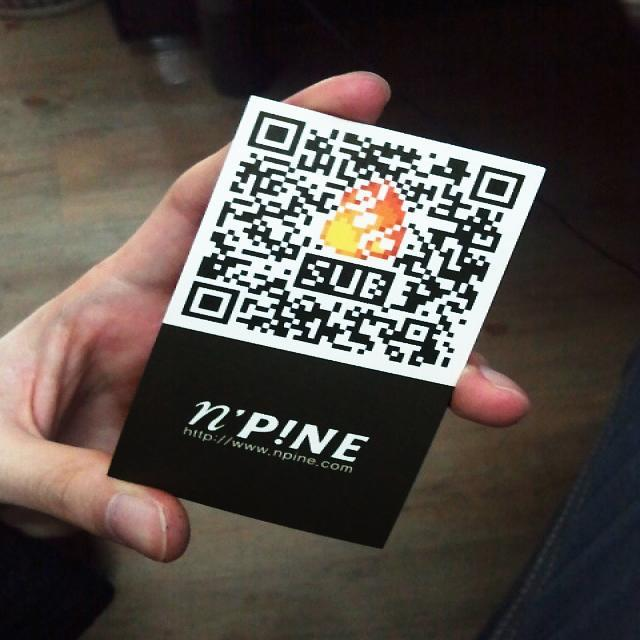qr-code: (180, 110, 526, 373)
